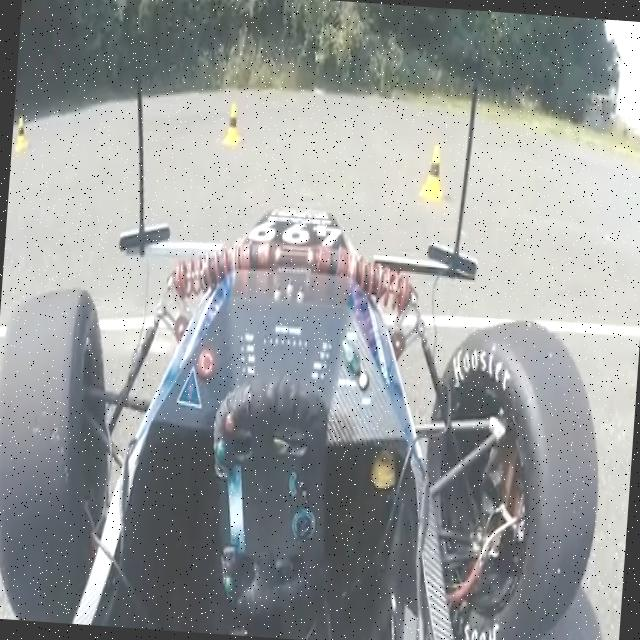yellow_cone: (418, 142, 446, 203), (222, 100, 244, 148), (14, 116, 32, 152)
